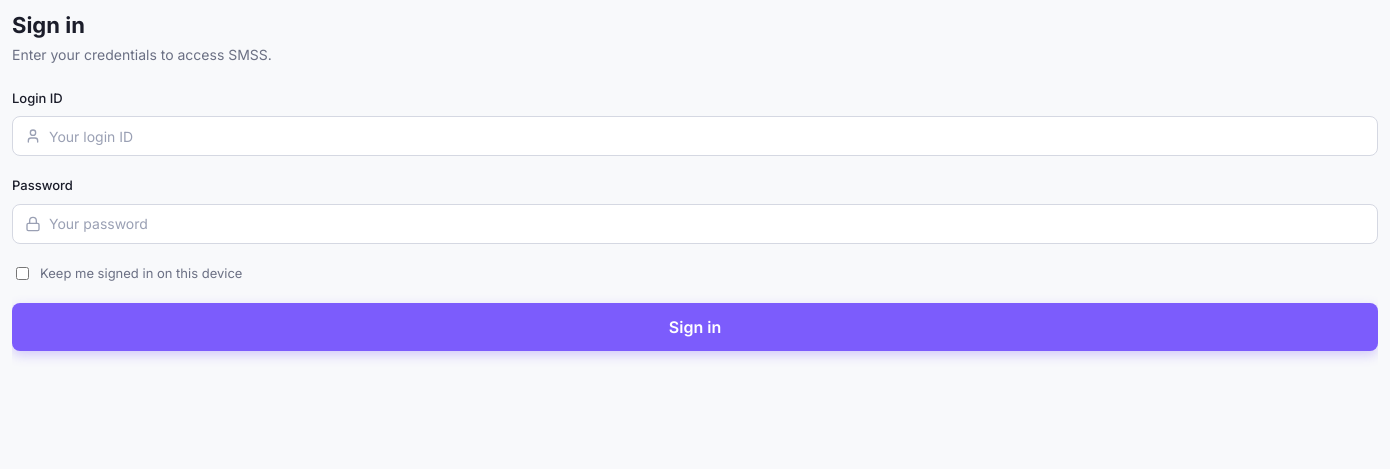
it: LoginComponent › says so when the server cannot be reached
Type "SUAD001" into the field labelled "Login ID". click: {"x": 707, "y": 136}
box: [49, 118, 1365, 154]
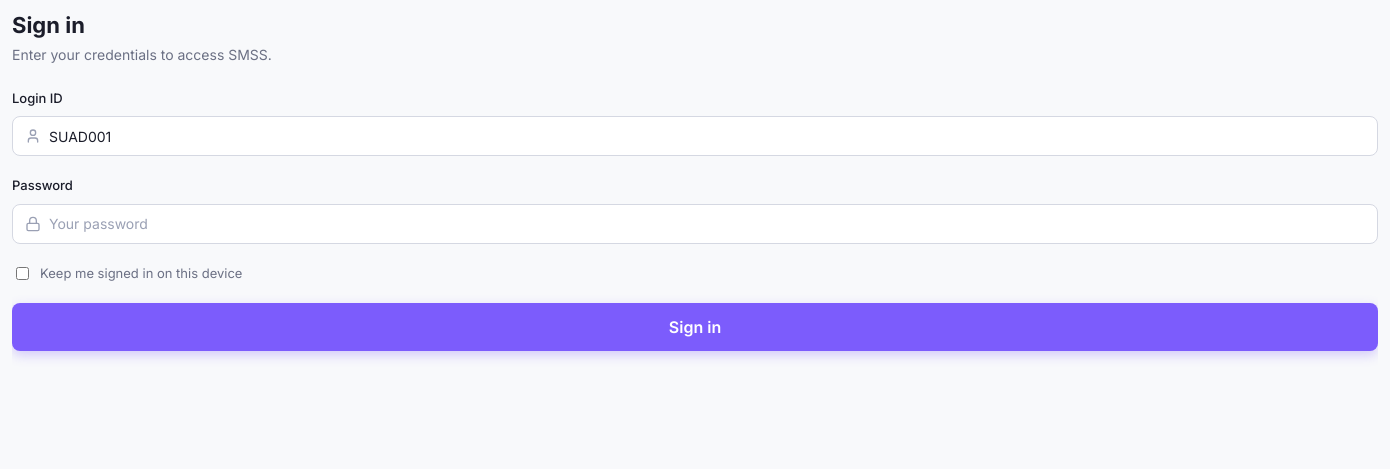
Type "secret" into the password field labelled "Password". click: {"x": 707, "y": 224}
box: [49, 205, 1365, 242]
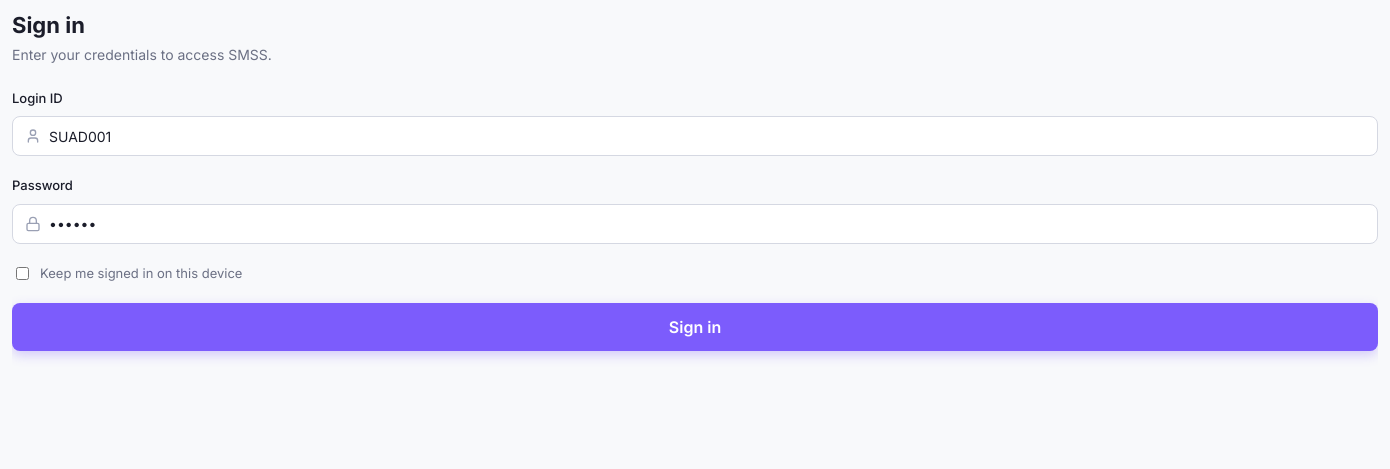
Click the submit button. click: {"x": 695, "y": 327}
box: [12, 303, 1378, 351]
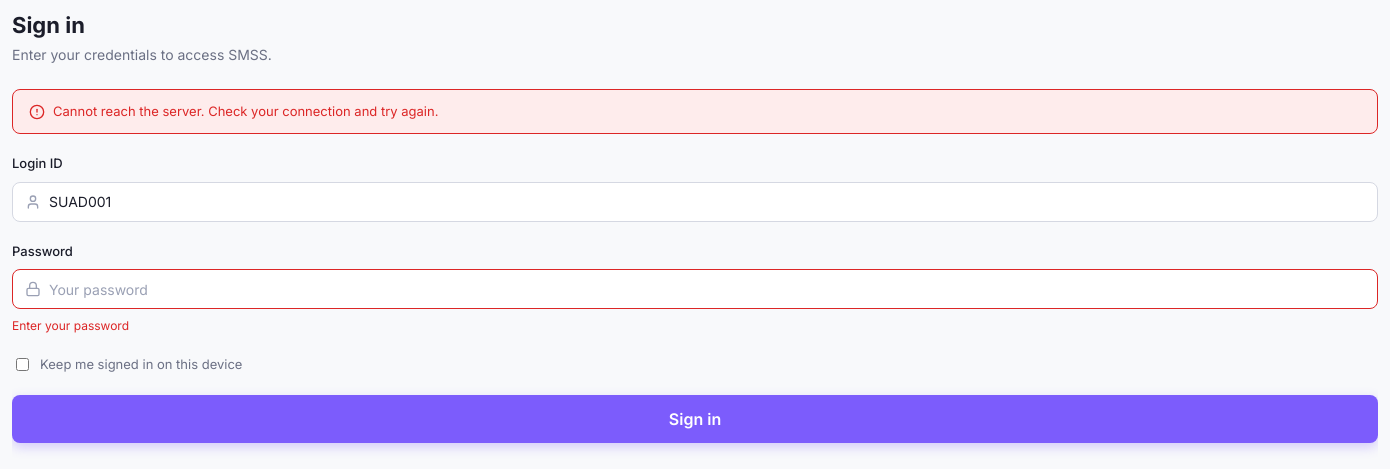
Now the message "Cannot reach the server. Check your connection and try again." is shown, box [12, 88, 1378, 134]
